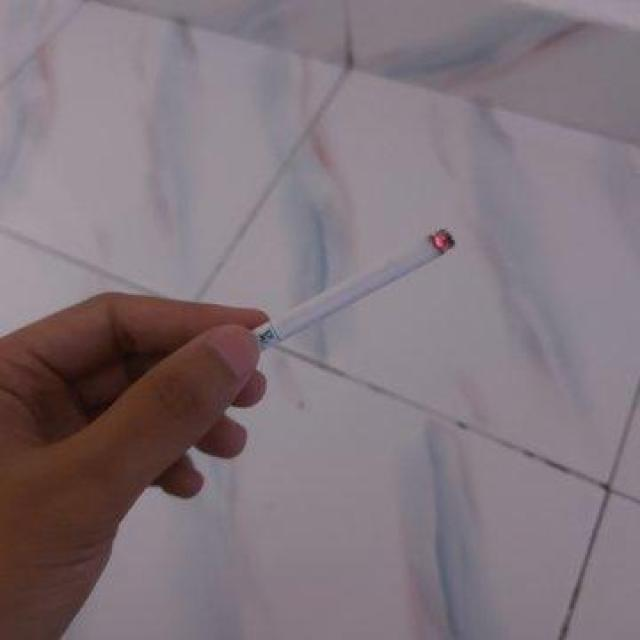Cigarette: (252, 224, 482, 347)
